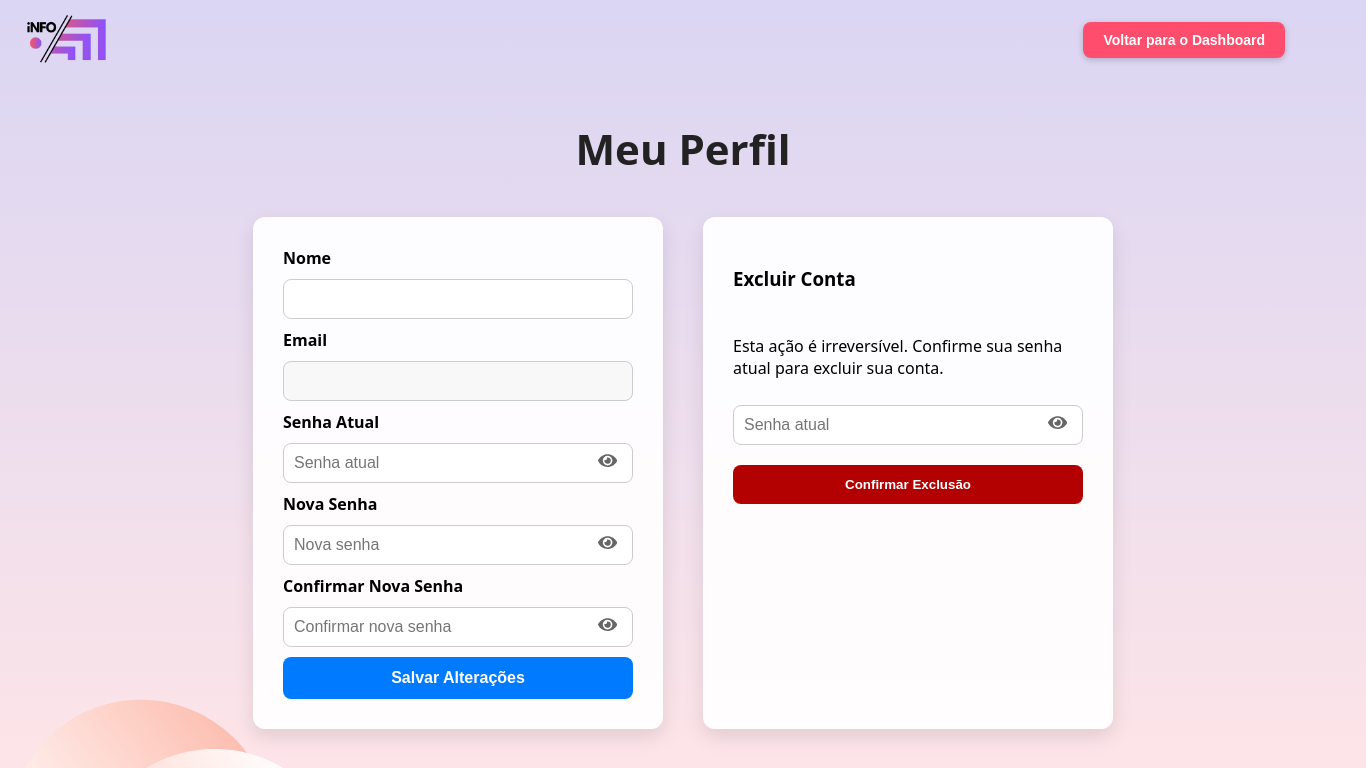
Test: Perfil.jsx › exibe erro ao tentar excluir conta sem senha
This screenshot has width=1366, height=768.
Step 1. Click the button "Confirmar Exclusão" → (908, 485), box top-left (733, 465), bottom-right (1083, 504)
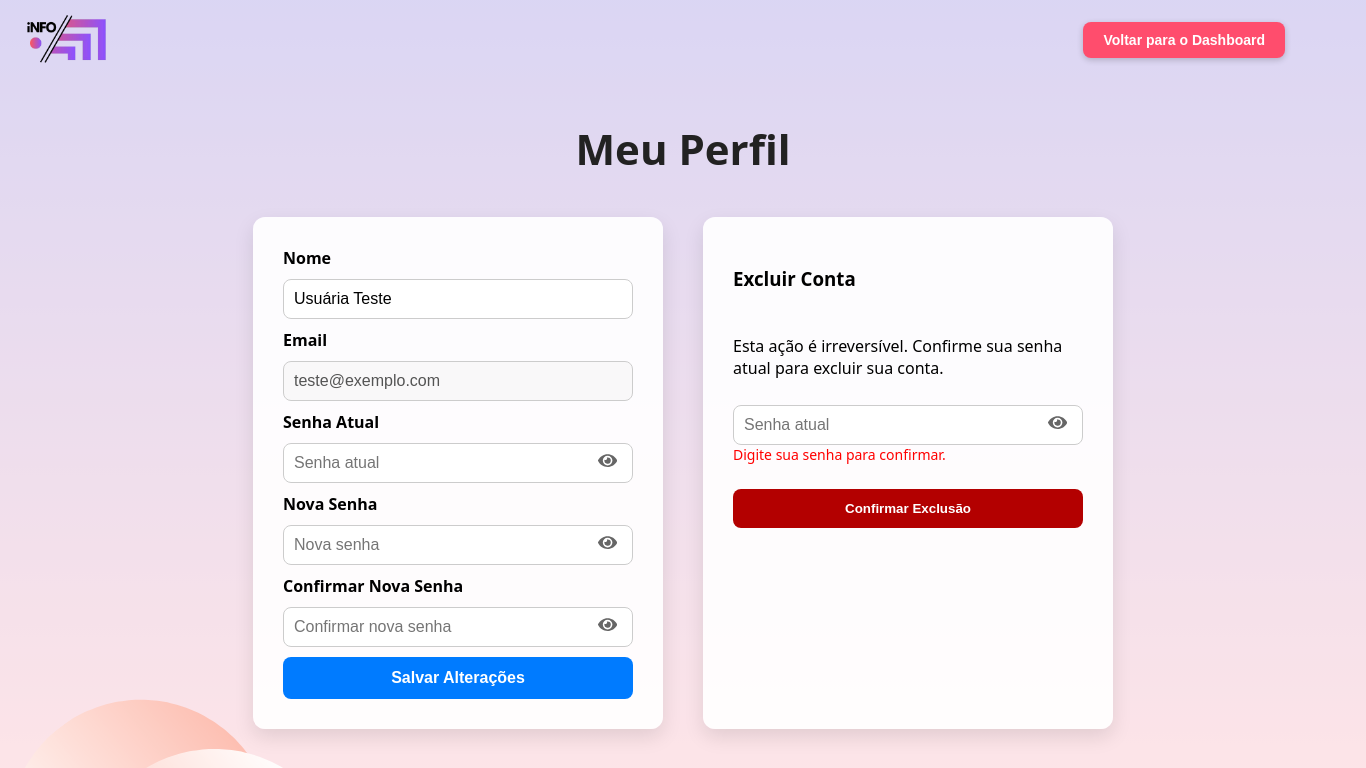
expect the text "Digite sua senha para confirmar." is shown: met, box top-left (733, 445), bottom-right (946, 464)
